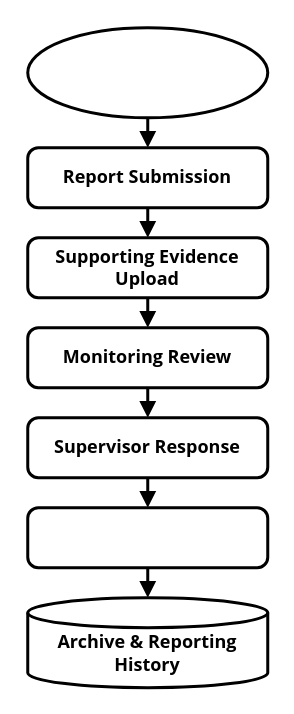
Image size: 294x714. Some labels were removed from this diagram. The shapes that lost their labels are listed below. From the top down, each one's box as (x1, y1, x2, y2) in pixels, then its label:
(26, 26, 268, 118): Organizational Unit (Division / Department)
(26, 506, 268, 568): Discussion & Collaboration
